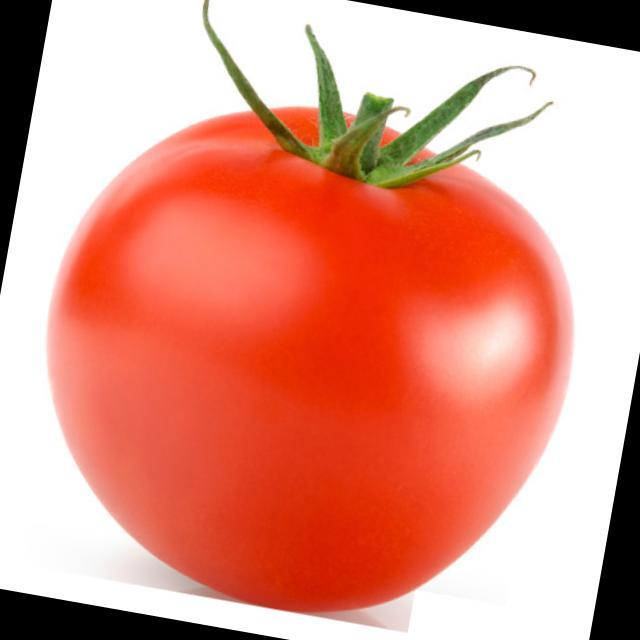TOMATO: (5, 62, 615, 640)
